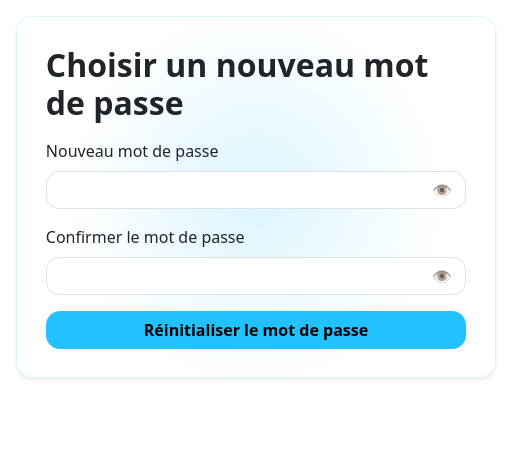
Test: ResetPassword › shows the backend error for an expired or invalid token
Type "newpassword456" into the password field labelled "Nouveau mot de passe".
click(256, 190); type("newpassword456")  # box [46,171,466,209]
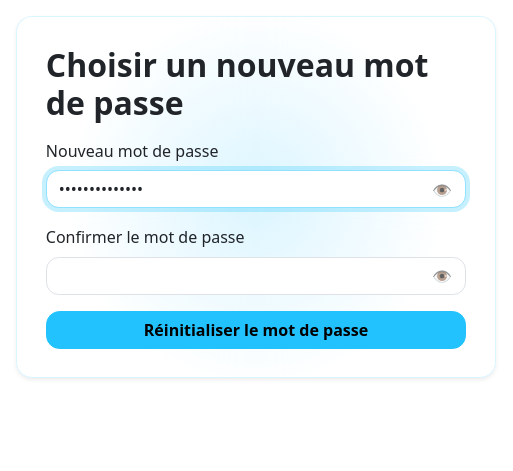
Type "newpassword456" into the password field labelled "Confirmer le mot de passe".
click(256, 276); type("newpassword456")  # box [46,257,466,295]
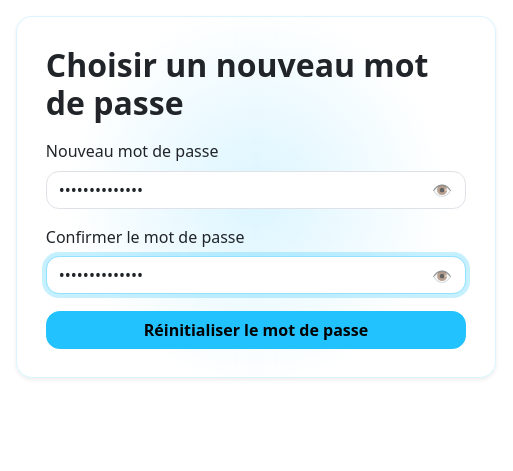
Click the button "Réinitialiser le mot de passe".
click(256, 330)  # box [46,311,466,349]
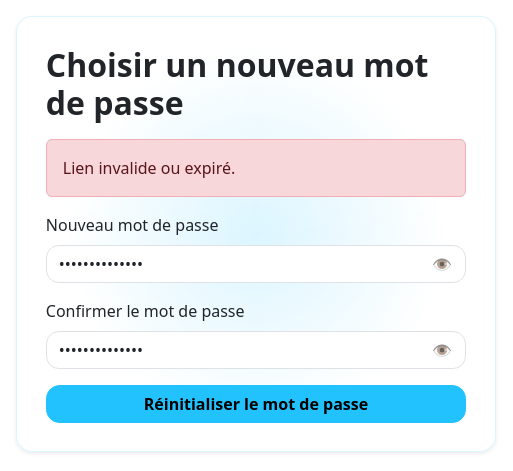
expect the text "Lien invalide ou expiré." is shown: met, box [46,139,466,197]
